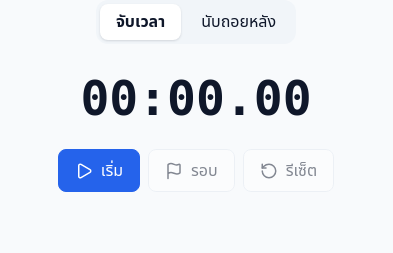
Test: TimerWidget › runs, pauses, resumes and resets the stopwatch
Click the button "เริ่ม". click: (99, 171)
box: top-left (58, 149), bottom-right (140, 192)
Wait 2000 ms
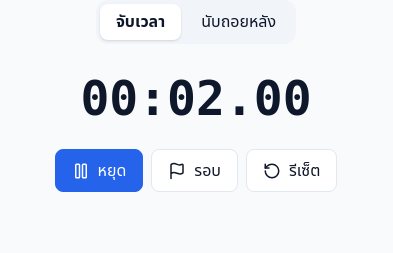
Expected: the text "00:02.00" is shown, top-left (80, 60), bottom-right (312, 137)
Click the button "หยุด". click: (99, 171)
box: top-left (55, 149), bottom-right (143, 192)
Wait 5000 ms
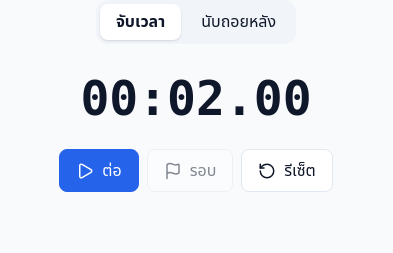
Expected: the text "00:02.00" is shown, top-left (80, 60), bottom-right (312, 137)
Click the button "ต่อ". click: (99, 171)
box: top-left (59, 149), bottom-right (139, 192)
Wait 1000 ms
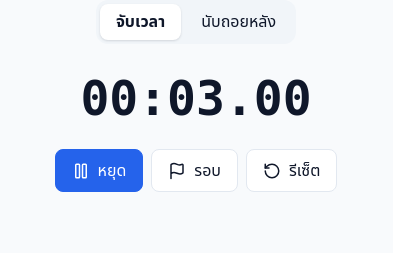
Click the button "รอบ". click: (195, 171)
box: top-left (151, 149), bottom-right (238, 192)
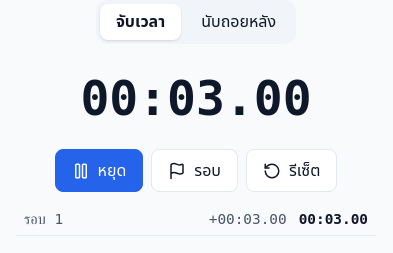
Expected: the list named "รอบที่บันทึก" shows "รอบ 1", top-left (16, 204), bottom-right (376, 236)
Click the button "รีเซ็ต". click: (292, 171)
box: top-left (246, 149), bottom-right (337, 192)
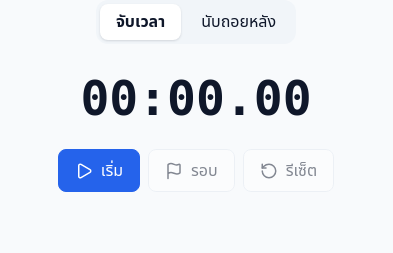
Expected: the text "00:00.00" is shown, top-left (80, 60), bottom-right (312, 137)
